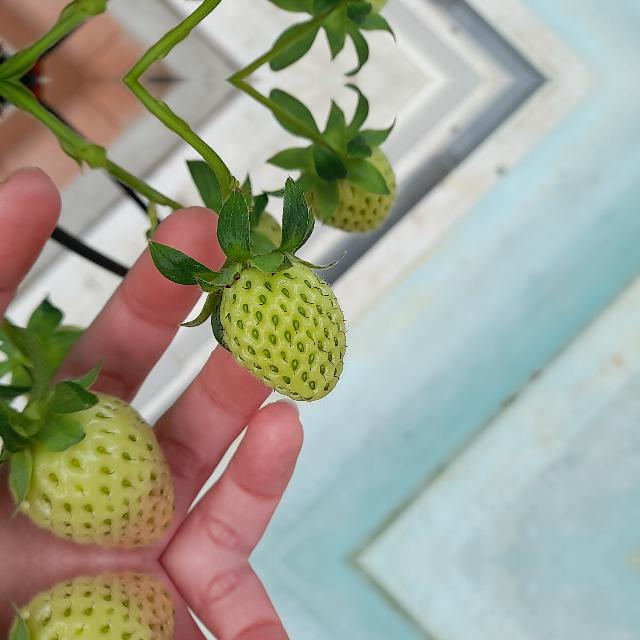Health_25: (3, 384, 178, 548), (218, 258, 346, 402), (3, 572, 178, 640), (300, 134, 398, 233), (300, 0, 397, 25)
